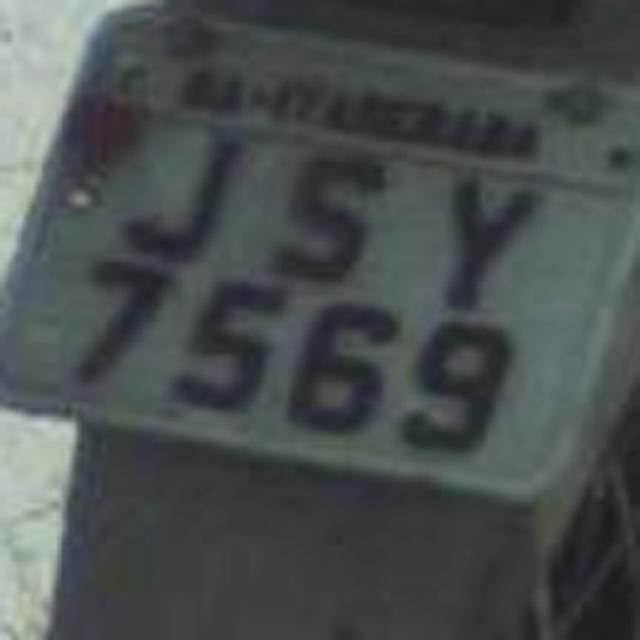5: (160, 268, 292, 408)
6: (260, 284, 415, 448)
7: (32, 240, 180, 400)
9: (376, 308, 532, 468)
J: (112, 112, 248, 272)
Y: (424, 155, 551, 320)
